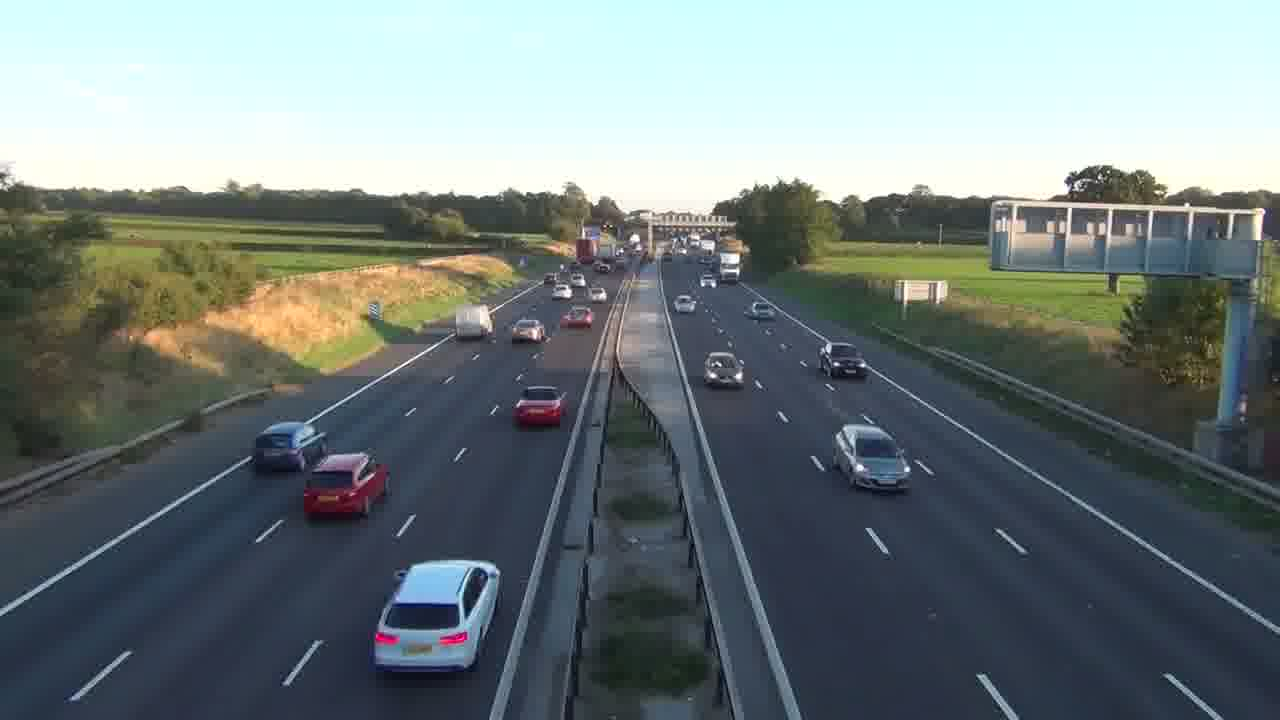car: (371, 558, 501, 677), (302, 451, 389, 519), (831, 423, 912, 493), (512, 385, 568, 429), (818, 340, 868, 379), (703, 351, 745, 390), (511, 317, 546, 343), (560, 305, 594, 330), (673, 293, 697, 314)
truck: (454, 304, 495, 342)
